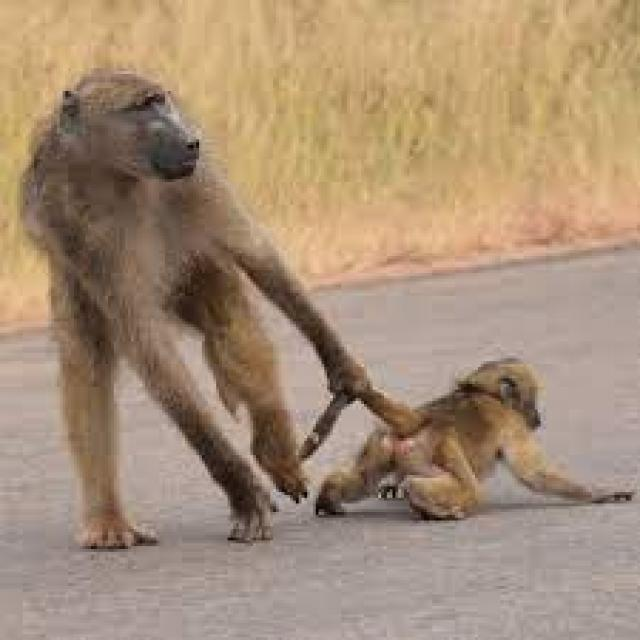monkey: (41, 80, 320, 528), (356, 236, 586, 554)
